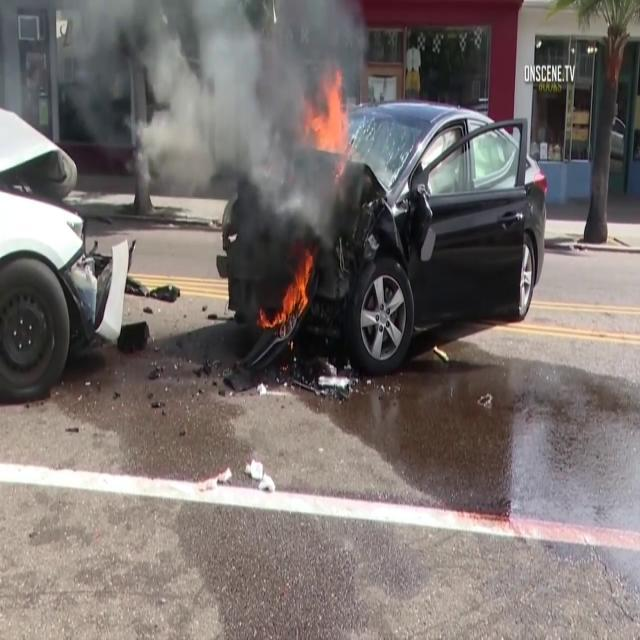Fire: (264, 255, 314, 343), (309, 70, 352, 165)
Smoke: (58, 0, 366, 272)
